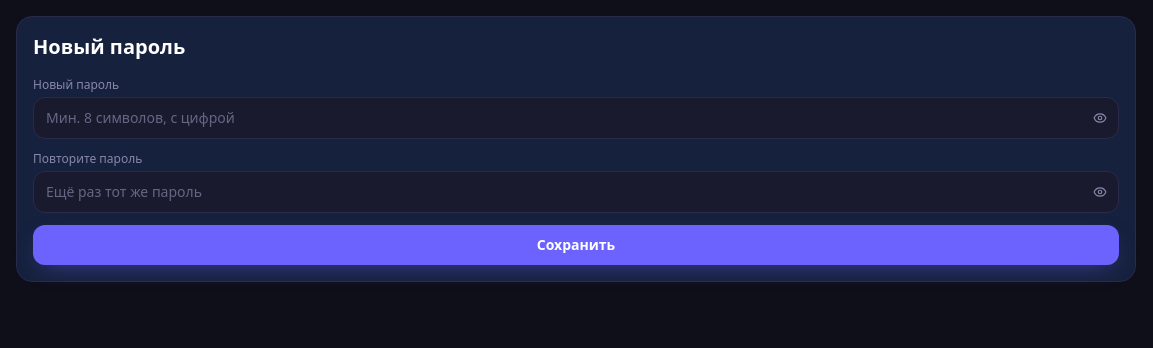
Scenario: /reset-password › пароли не совпадают — запрос не уходит, ошибка под полем
In the password field labelled "Новый пароль": (576, 118) 33,97 -> 1119,139, type "Str0ngPass"
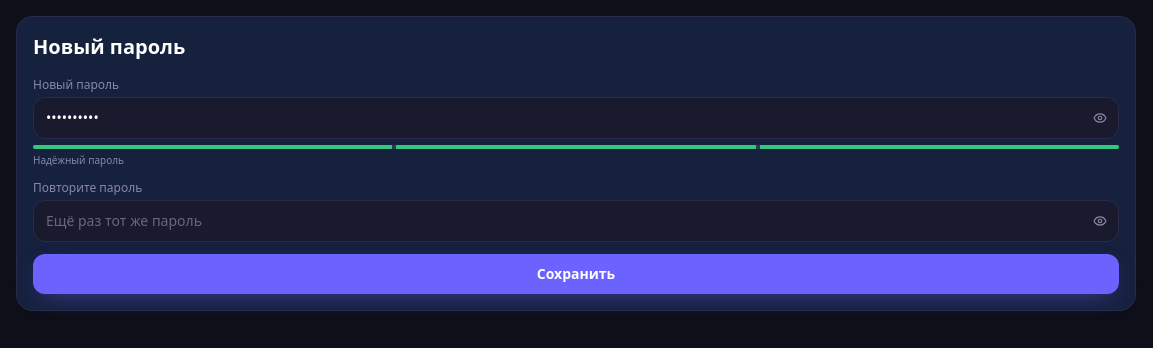
In the password field labelled "Повторите пароль": (576, 221) 33,200 -> 1119,242, type "Str0ngPasx"
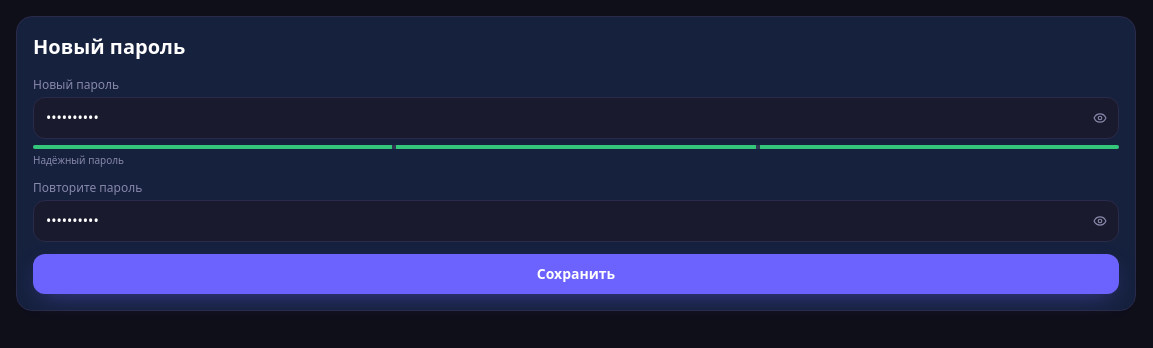
Click the button "Сохранить": click(576, 274) 33,254 -> 1119,294
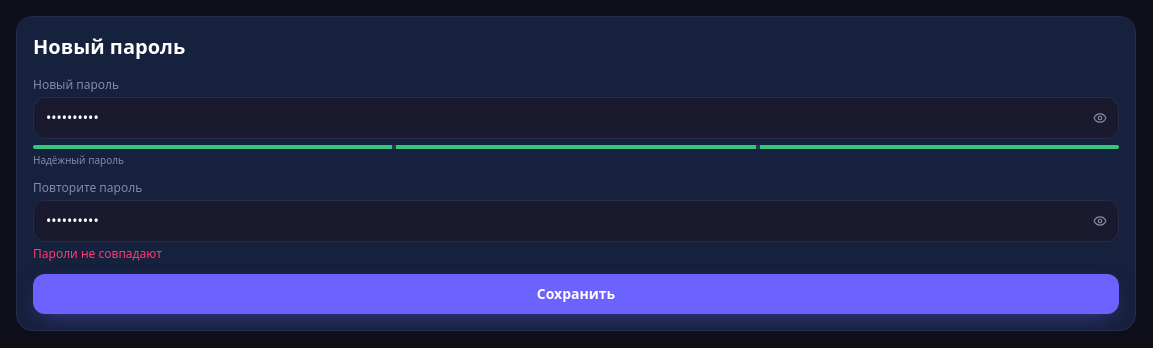
Expected: the message reads "Пароли не совпадают", 33,245 -> 162,262
